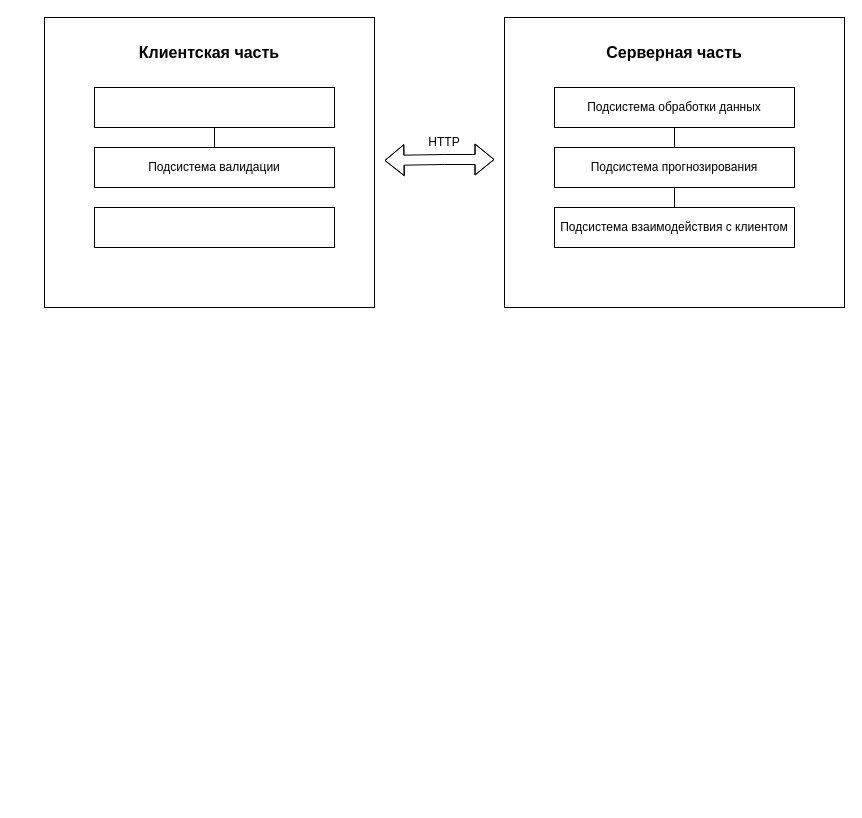
Some shapes in this 862 by 818 pixel diagram are drawn without their labels. Each missing label, with the centre of its shape:
"Подсистема ввода характеристик автомобиля" belongs at (214,107).
"Подсистема просмотра результата прогнозирования" belongs at (214,227).
